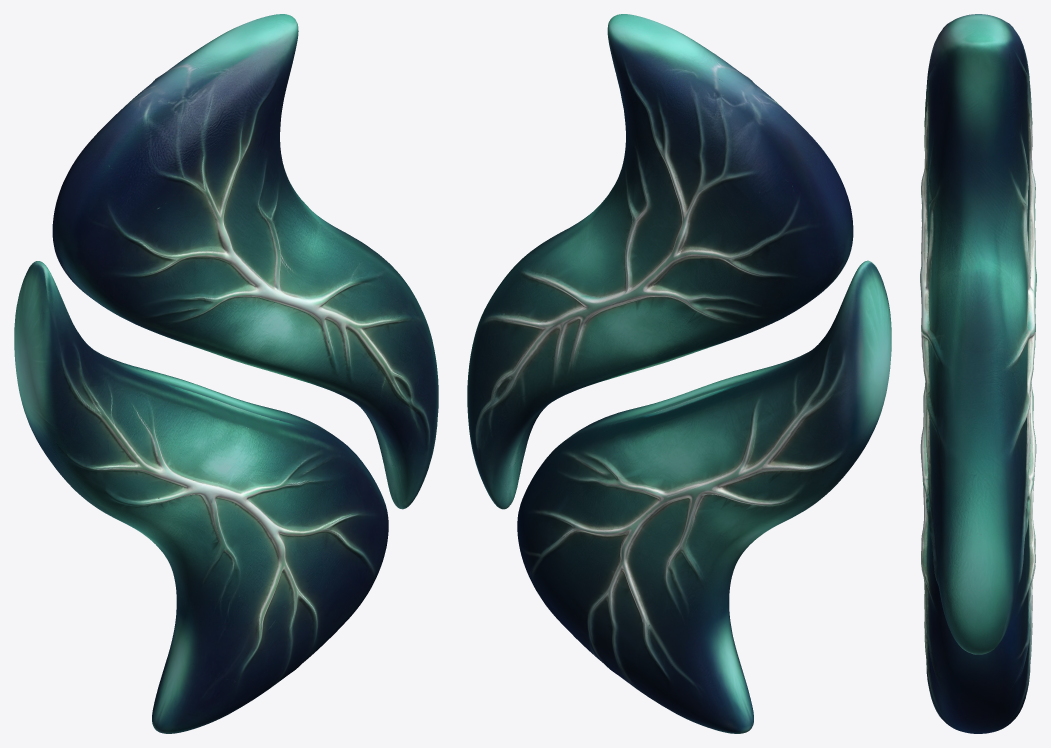
The model's file is opt_Luminescent_Crescent_0508010511.glb.
3 renders of one model, left to right at view 1: azimuth 30°, elevation 25°; view 2: azimuth 150°, elevation 25°; view 3: azimuth 270°, elevation 25°, orthographic. The views are drawn at different scales.
Size of the model in its own units: 1.18 by 1.9 by 0.2726.
Materials: 1 (1 with a texture image).
